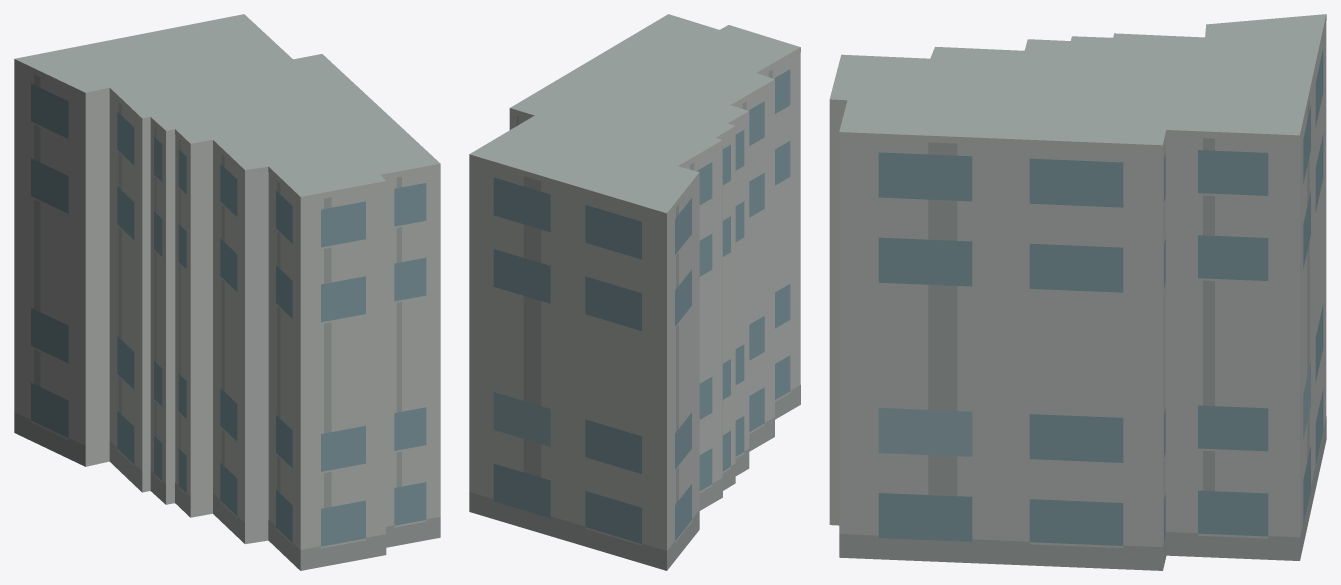
Rendered from survey-upis-32964955.glb.
3 views of the same model, side by side, from view 1: azimuth 30°, elevation 25°; view 2: azimuth 150°, elevation 25°; view 3: azimuth 270°, elevation 25° (orthographic). The views are drawn at different scales.
Visible parts, largest first — view 1: survey-upis-32964955.tmp; view 2: survey-upis-32964955.tmp; view 3: survey-upis-32964955.tmp.
Part boxes in pixels (left/top/right/bottom): survey-upis-32964955.tmp: left=14, top=14, right=440, bottom=570; survey-upis-32964955.tmp: left=469, top=14, right=800, bottom=570; survey-upis-32964955.tmp: left=829, top=14, right=1326, bottom=570.
Size of the model in its own units: 10.22 by 15.45 by 16.35.
